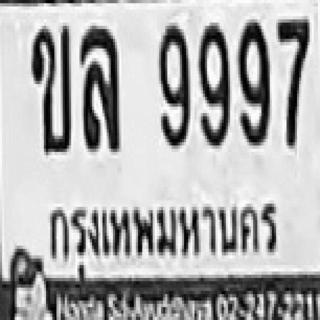A02: (29, 24, 69, 150)
A36: (79, 26, 119, 149)
N07: (276, 16, 307, 145)
N09: (236, 18, 268, 144), (197, 20, 228, 146), (157, 23, 188, 145)
P04: (45, 197, 281, 261)
